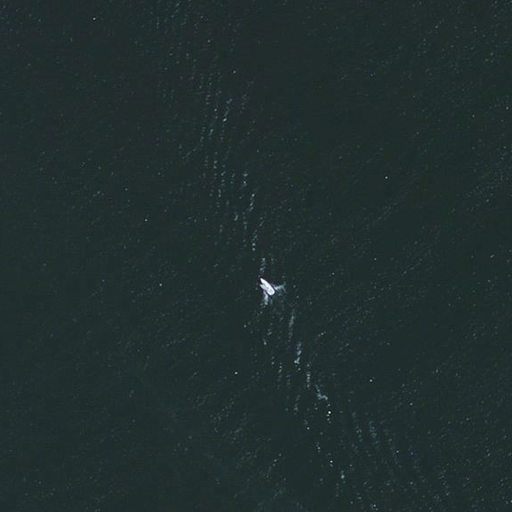ship: (256, 274, 277, 298)
